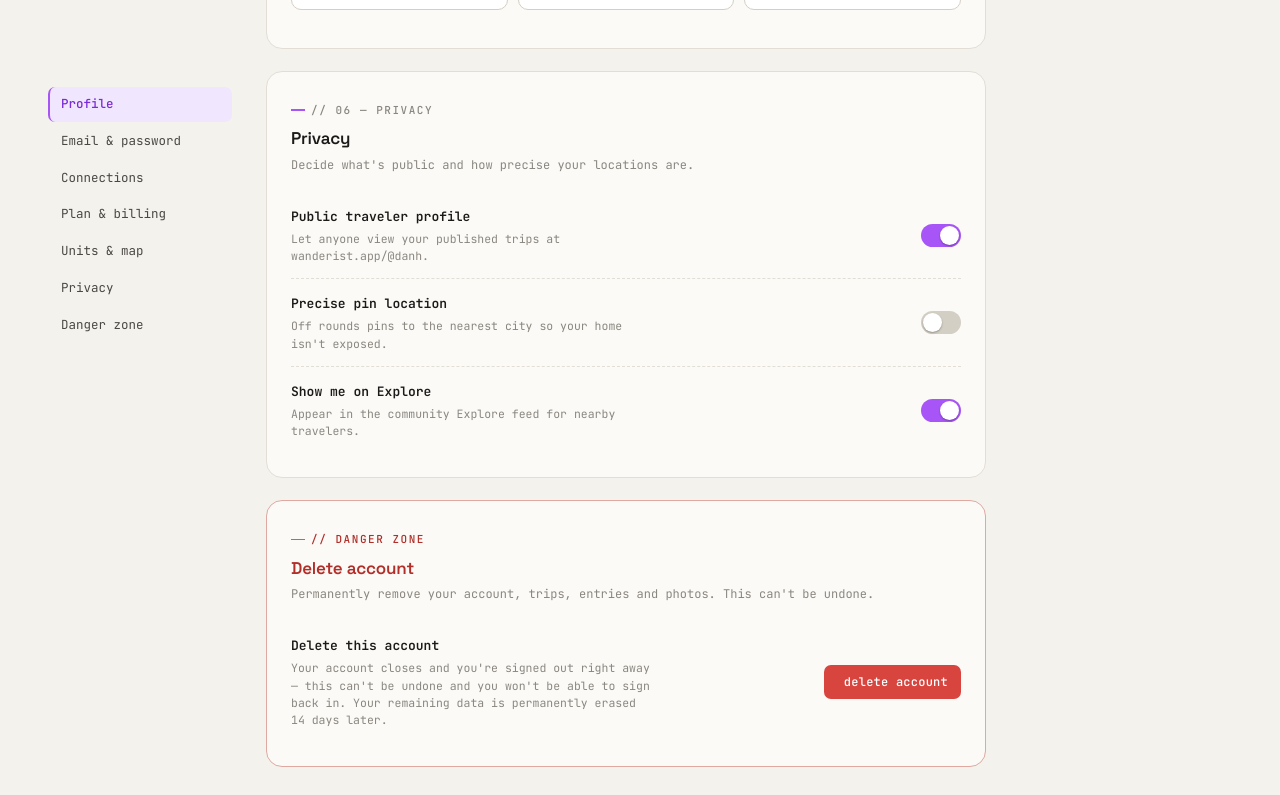
Test: Settings page (/settings) › follows the real data when place/trip counts differ from the default mock, proving the counts are dynamic
(page scrolled)
What coordinates should you click on to do the following:
click the button "delete account"
I would click on:
 (893, 682)
Its box is [824,665,961,699].
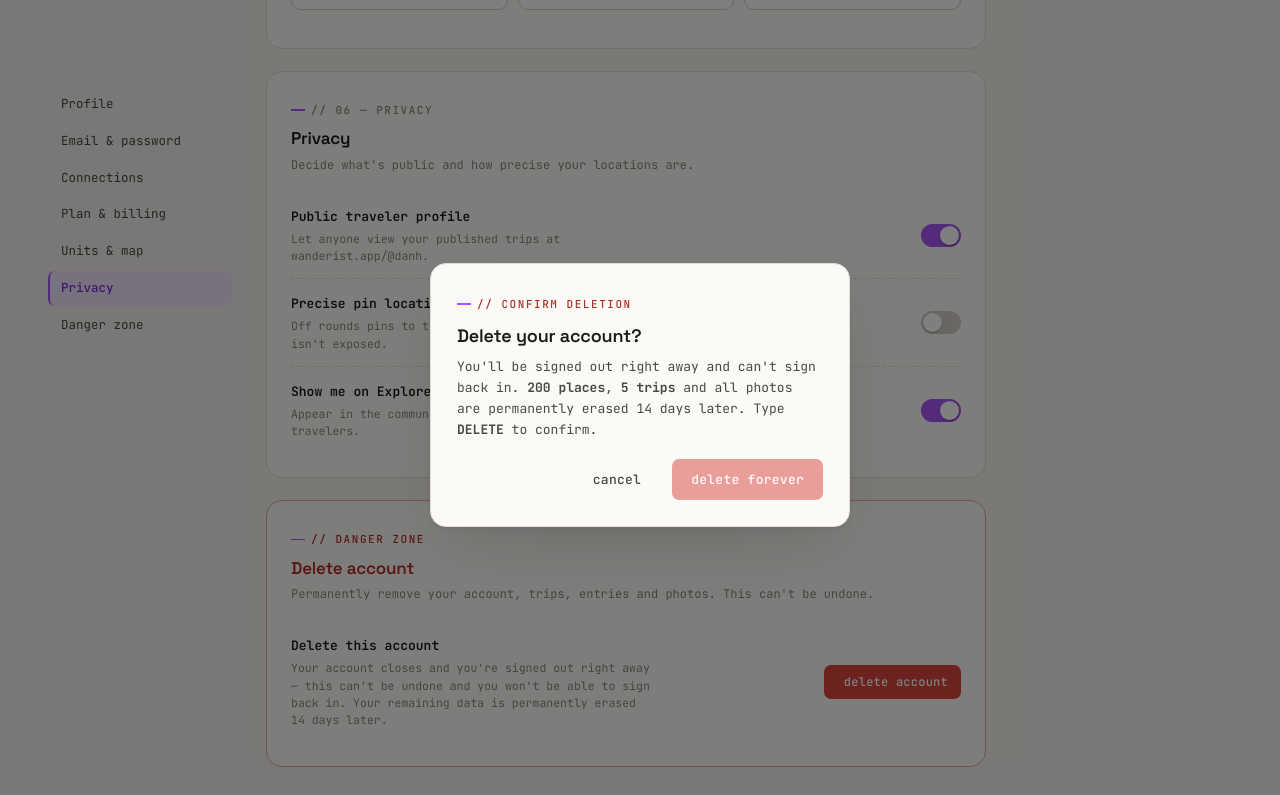
Result: the element with class "modal" shows "200 places" at [527,379,605,396]
Result: the element with class "modal" shows "5 trips" at [621,379,675,396]
